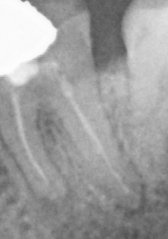fracture: (107, 169, 129, 197)
